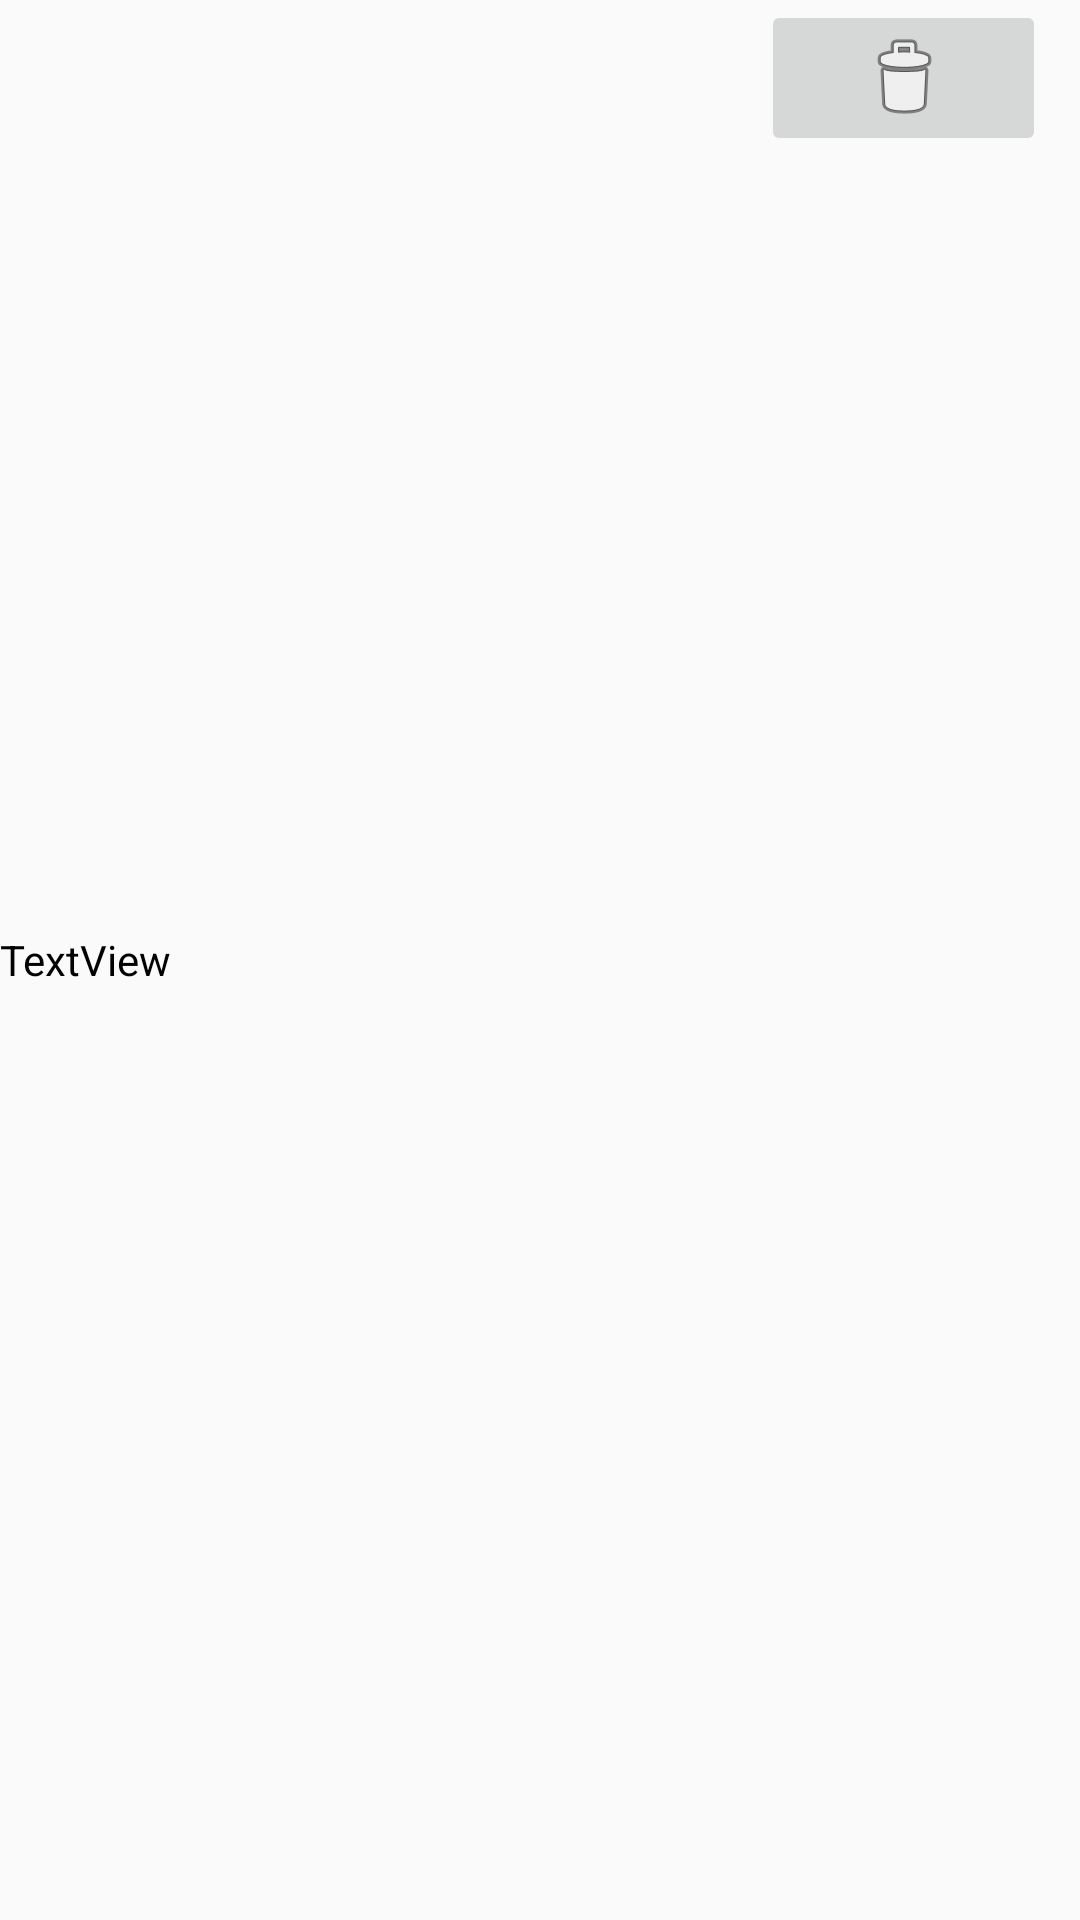

Point at icon controls on the screen. Image size 1080x1920, points as point (x, y).
delete: point (903, 78)
